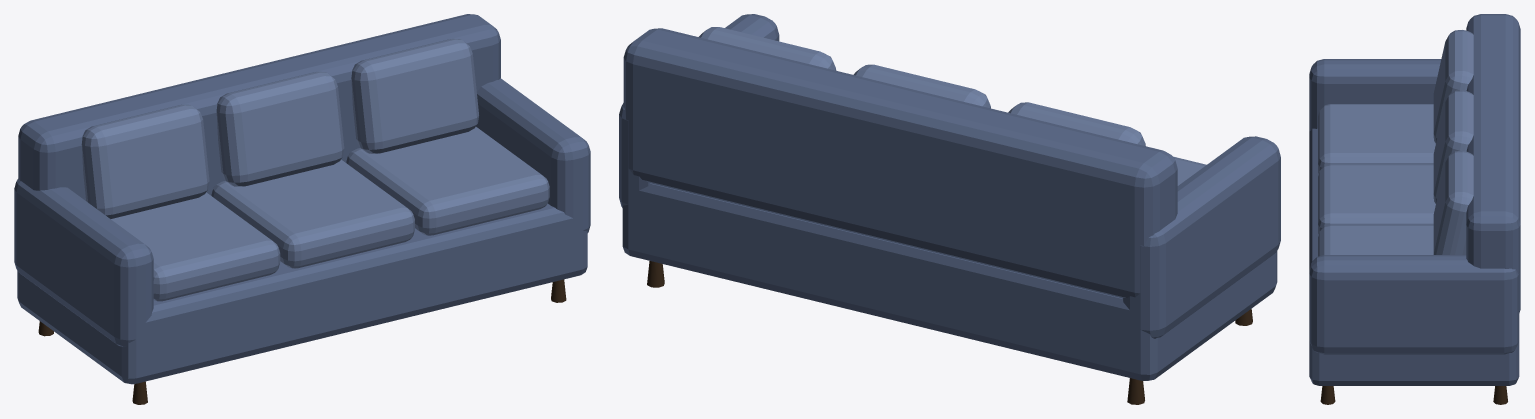
Rendered from sofa.glb.
The picture shows the model from 3 angles, left to right: view 1: azimuth 30°, elevation 25°; view 2: azimuth 150°, elevation 25°; view 3: azimuth 270°, elevation 25°; orthographic projection. The views are drawn at different scales.
Parts seen in each view (by area): view 1: Sofa; view 2: Sofa; view 3: Sofa.
Boxes of the visible parts, left/top/right/bottom form: Sofa: left=14, top=14, right=590, bottom=404; Sofa: left=619, top=14, right=1280, bottom=404; Sofa: left=1309, top=14, right=1520, bottom=404.
Size of the model in its own units: 2.04 by 0.8784 by 0.855.
